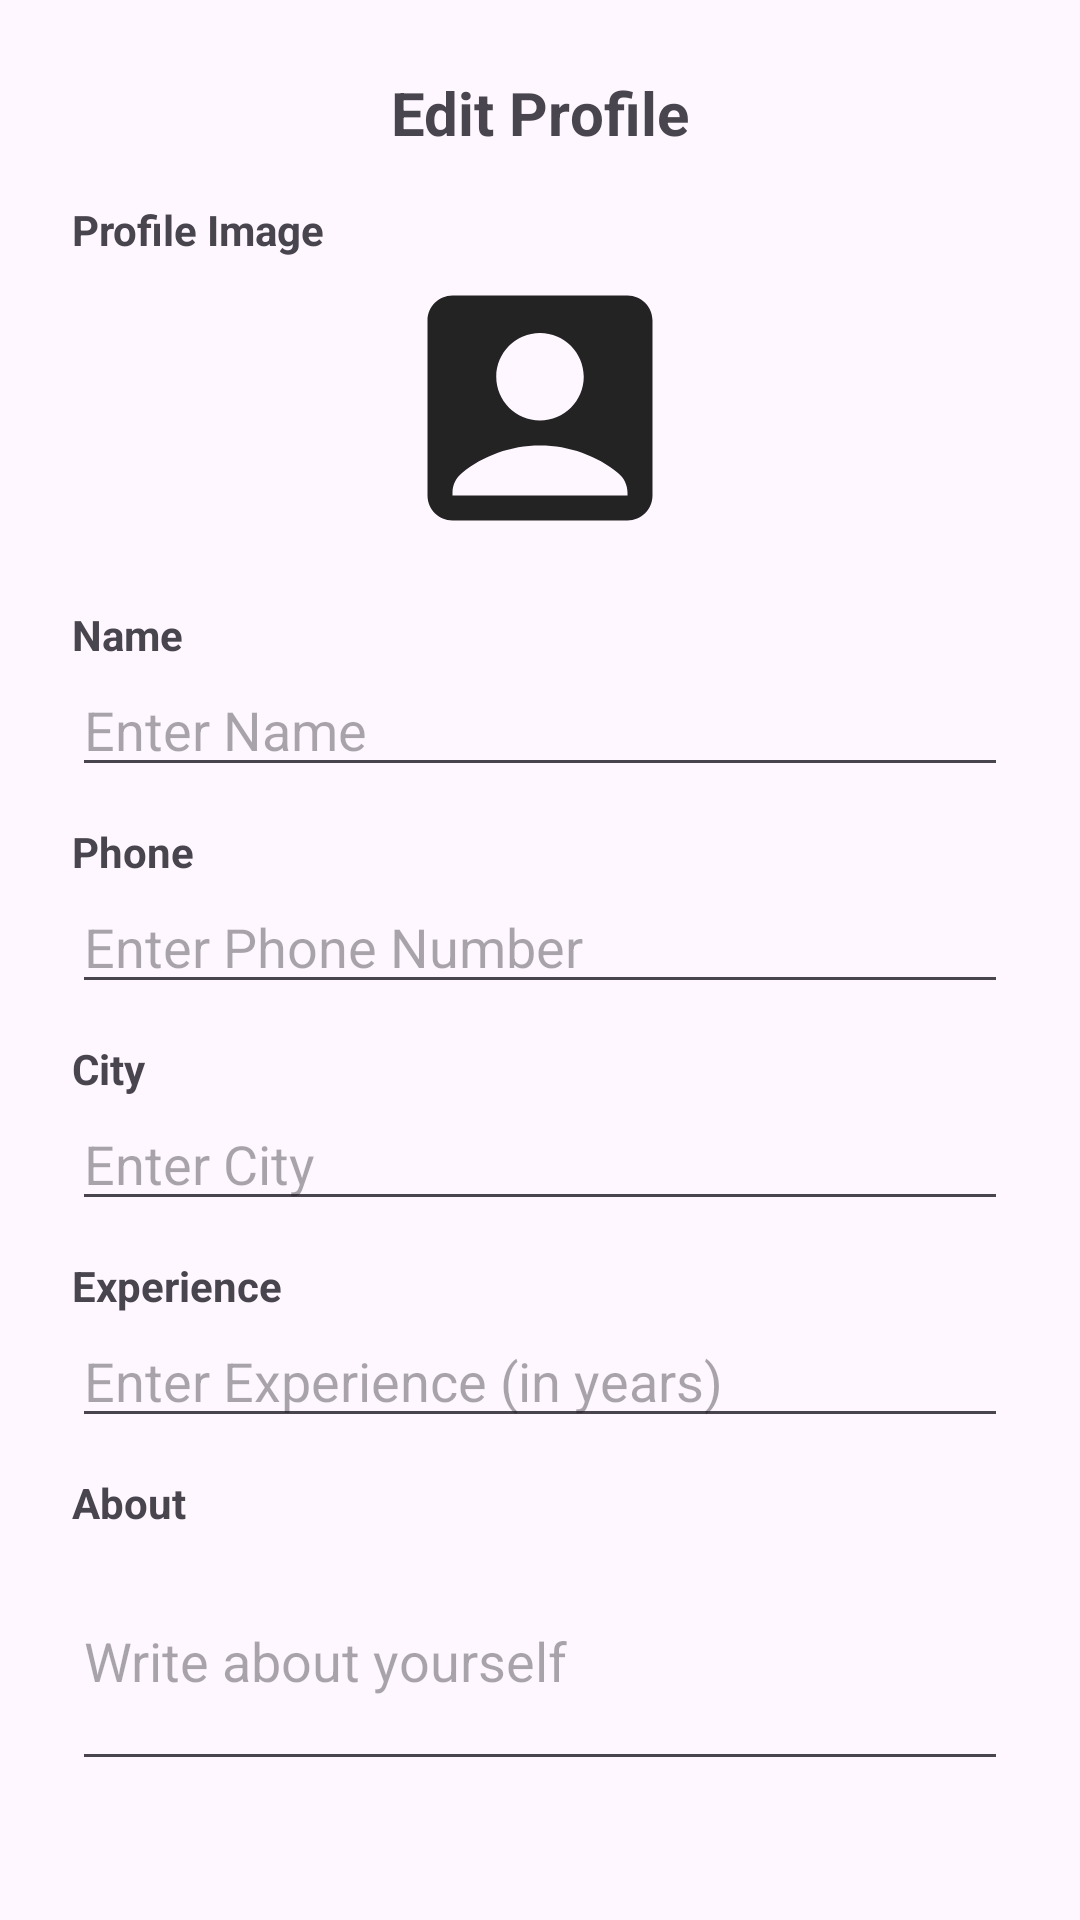

Where icons sit on this 1080×1920 app screen, as (x1, y1, x2, y2):
account box: (427, 295, 653, 521)
